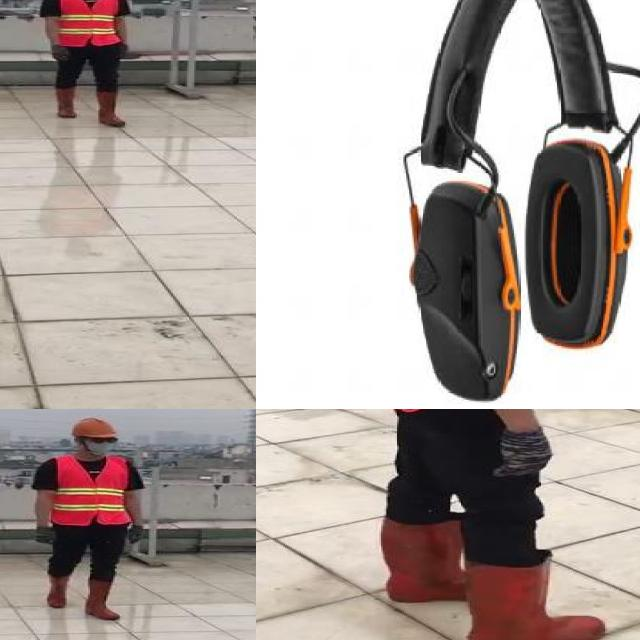Ear-protection: (422, 0, 640, 396)
boots: (464, 562, 610, 640), (379, 514, 470, 603), (84, 579, 126, 620), (95, 91, 130, 128), (46, 574, 70, 610), (52, 86, 79, 115)
face_mask: (79, 434, 121, 458)
glasses: (85, 435, 120, 447)
hand_glove: (496, 429, 552, 476), (46, 46, 72, 62), (112, 44, 136, 61), (35, 525, 56, 544), (126, 525, 145, 546)
head_helmet: (69, 416, 120, 442)
person: (355, 409, 634, 640), (26, 410, 156, 626), (40, 0, 134, 131)
vest: (52, 455, 132, 524), (52, 0, 121, 47)
